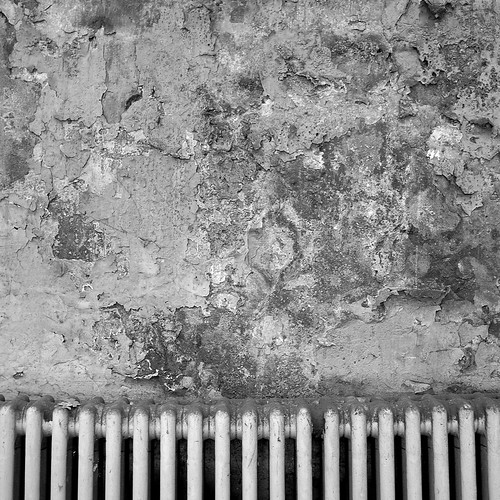wall: (1, 1, 494, 406)
